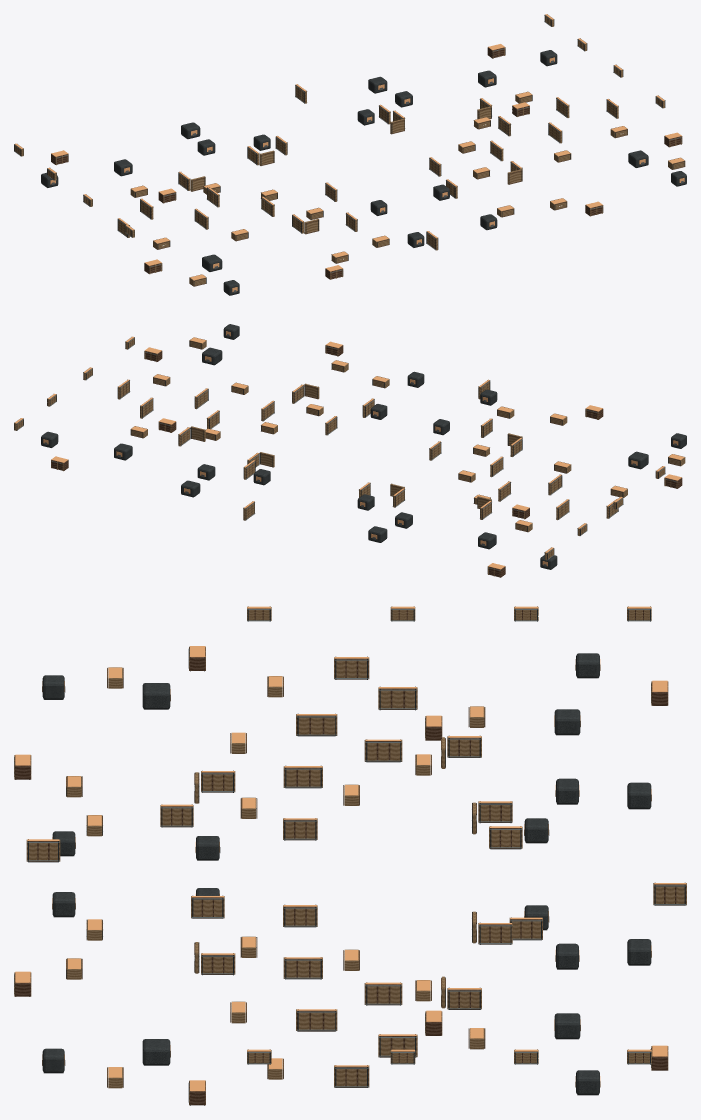
The model's file is cover_circuit.glb.
The picture shows the model from 3 angles, top to bottom: view 1: azimuth 30°, elevation 25°; view 2: azimuth 150°, elevation 25°; view 3: azimuth 270°, elevation 25°; orthographic projection. The views are drawn at different scales.
Parts seen in each view (by area): view 1: BATCH_06_OSB_PLYWOOD_SHEETS, BATCH_10_INFLATABLE_VINYL, BATCH_07_SOLID_PLYWOOD_FRAMING, BATCH_08_SAFETY_ORANGE, BATCH_03_POWDERCOATED_GUNMETAL, BATCH_04_BRUSHED_ALUMINIUM; view 2: BATCH_06_OSB_PLYWOOD_SHEETS, BATCH_10_INFLATABLE_VINYL, BATCH_07_SOLID_PLYWOOD_FRAMING, BATCH_08_SAFETY_ORANGE, BATCH_03_POWDERCOATED_GUNMETAL, BATCH_04_BRUSHED_ALUMINIUM; view 3: BATCH_06_OSB_PLYWOOD_SHEETS, BATCH_10_INFLATABLE_VINYL, BATCH_07_SOLID_PLYWOOD_FRAMING, BATCH_08_SAFETY_ORANGE, BATCH_04_BRUSHED_ALUMINIUM, BATCH_03_POWDERCOATED_GUNMETAL.
Boxes of the visible parts, box(x1,y1,x2,y2) form: BATCH_06_OSB_PLYWOOD_SHEETS: box(14, 16, 685, 286); BATCH_10_INFLATABLE_VINYL: box(41, 50, 686, 295); BATCH_07_SOLID_PLYWOOD_FRAMING: box(15, 15, 685, 286); BATCH_08_SAFETY_ORANGE: box(15, 14, 684, 292); BATCH_03_POWDERCOATED_GUNMETAL: box(14, 14, 684, 285); BATCH_04_BRUSHED_ALUMINIUM: box(14, 15, 680, 272); BATCH_06_OSB_PLYWOOD_SHEETS: box(14, 337, 685, 577); BATCH_10_INFLATABLE_VINYL: box(41, 324, 686, 569); BATCH_07_SOLID_PLYWOOD_FRAMING: box(16, 337, 682, 577); BATCH_08_SAFETY_ORANGE: box(15, 331, 684, 569); BATCH_03_POWDERCOATED_GUNMETAL: box(14, 337, 680, 559); BATCH_04_BRUSHED_ALUMINIUM: box(14, 337, 677, 570); BATCH_06_OSB_PLYWOOD_SHEETS: box(14, 607, 686, 1105); BATCH_10_INFLATABLE_VINYL: box(29, 653, 684, 1095); BATCH_07_SOLID_PLYWOOD_FRAMING: box(14, 608, 685, 1105); BATCH_08_SAFETY_ORANGE: box(15, 606, 686, 1091); BATCH_04_BRUSHED_ALUMINIUM: box(14, 609, 686, 1093); BATCH_03_POWDERCOATED_GUNMETAL: box(15, 606, 685, 1105).
Bounding box in the file's own units: 103 × 5.82 × 65.5.
8 materials, 5 textured.
